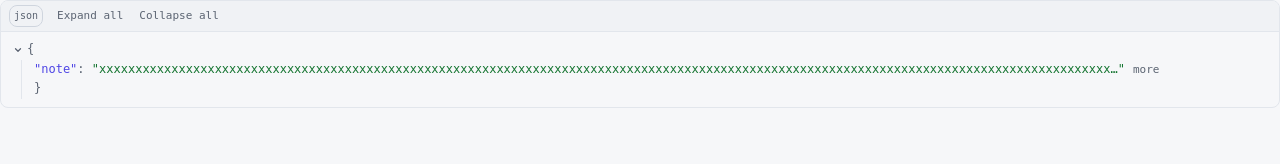
Test: JsonTree › truncates long strings behind a more/less expander
Click the button "more".
click(1146, 70)  # box [1129, 61, 1163, 79]
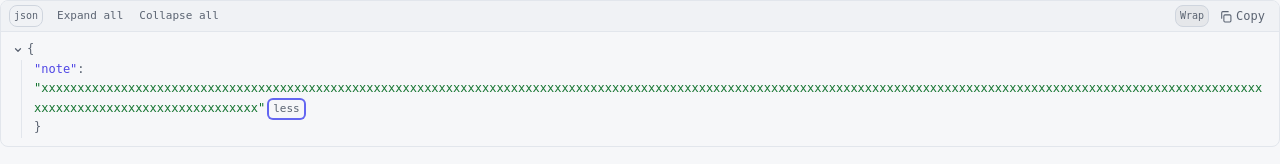
Expected: the button "less" is shown, [269, 100, 304, 118]
